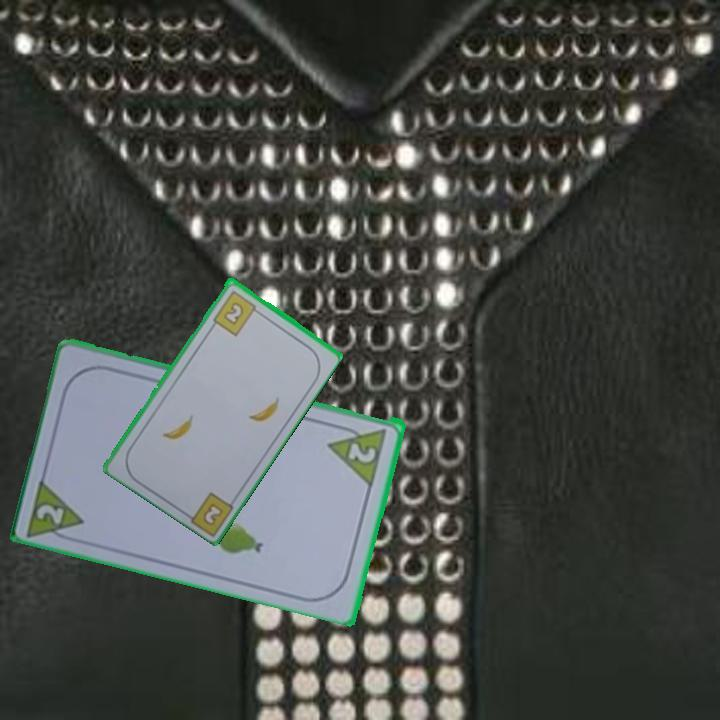2b: (209, 286, 263, 338), (199, 499, 226, 528)
2p: (23, 472, 88, 545), (325, 419, 391, 487)
